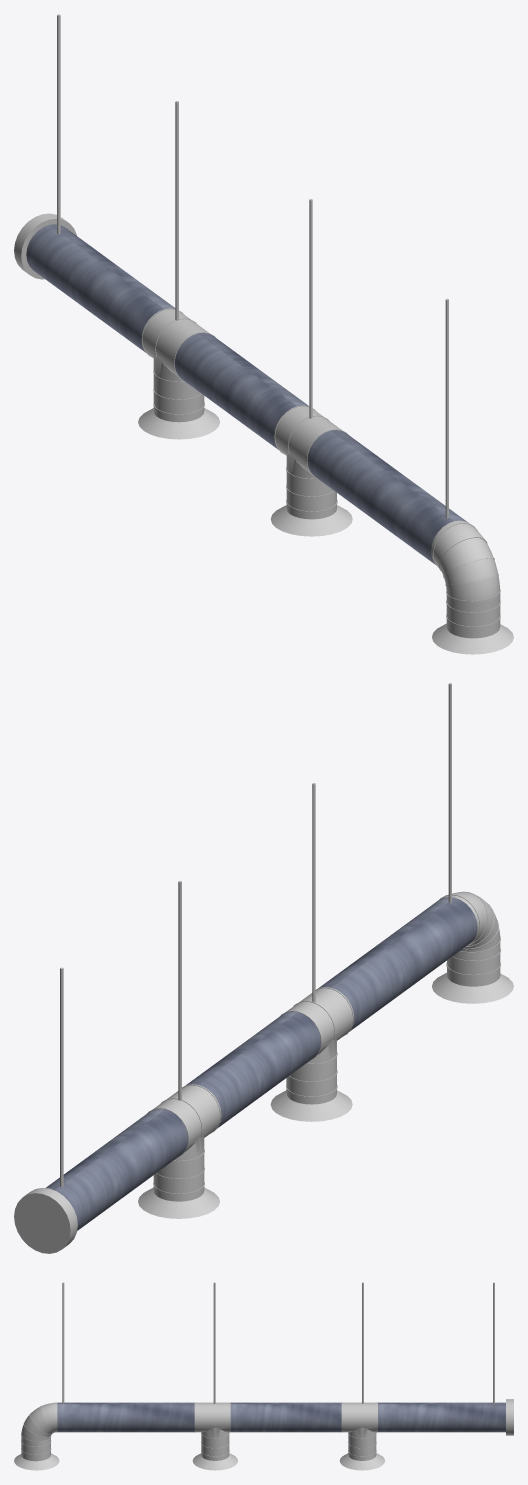
Rendered from SM_PipesAir.fbx.
The picture shows the model from 3 angles, top to bottom: view 1: azimuth 30°, elevation 25°; view 2: azimuth 150°, elevation 25°; view 3: azimuth 270°, elevation 25°; orthographic projection. The views are drawn at different scales.
Visible parts, largest first — view 1: SM_PipesAir_LOD0; view 2: SM_PipesAir_LOD0; view 3: SM_PipesAir_LOD0.
Part boxes in pixels (<box>): SM_PipesAir_LOD0: <box>14,14,513,654</box>; SM_PipesAir_LOD0: <box>14,683,513,1253</box>; SM_PipesAir_LOD0: <box>14,1282,513,1470</box>.
Size of the model in its own units: 140 by 1536 by 610.
2 materials, 1 textured.
